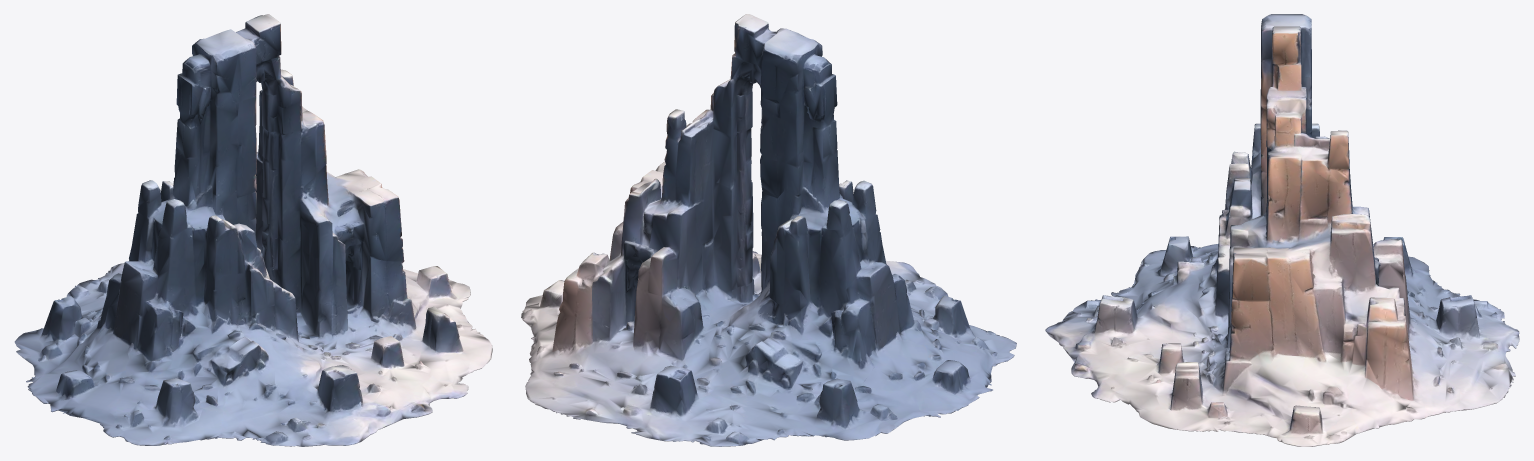
The model's file is arco_roca.glb.
The picture shows the model from 3 angles, left to right: view 1: azimuth 30°, elevation 25°; view 2: azimuth 150°, elevation 25°; view 3: azimuth 270°, elevation 25°; orthographic projection. The views are drawn at different scales.
Parts seen in each view (by area): view 1: tripo_node_e7ae6434-4fe7-451b-a9b3-25e730b0d6f7; view 2: tripo_node_e7ae6434-4fe7-451b-a9b3-25e730b0d6f7; view 3: tripo_node_e7ae6434-4fe7-451b-a9b3-25e730b0d6f7.
Part boxes in pixels (x1,y1,x2,y2): tripo_node_e7ae6434-4fe7-451b-a9b3-25e730b0d6f7: (14, 14, 492, 446); tripo_node_e7ae6434-4fe7-451b-a9b3-25e730b0d6f7: (521, 14, 1016, 446); tripo_node_e7ae6434-4fe7-451b-a9b3-25e730b0d6f7: (1045, 14, 1519, 446).
Size of the model in its own units: 0.9996 by 0.7128 by 0.9528.
1 material, 1 textured.
